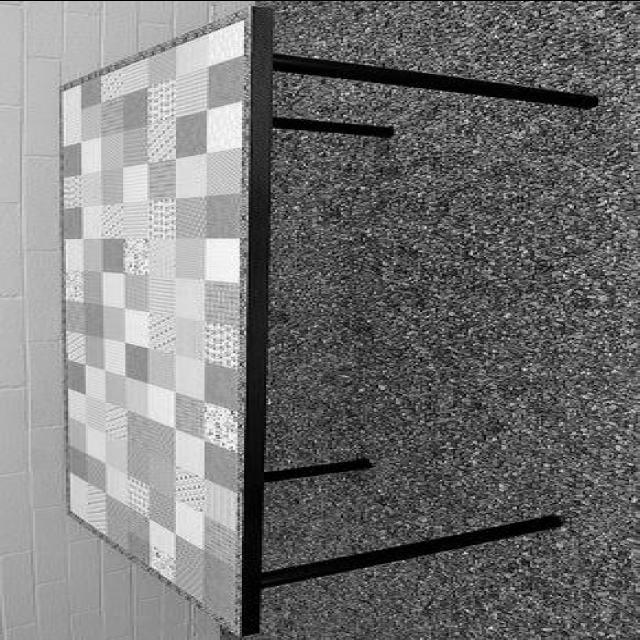table: (59, 4, 597, 636)
